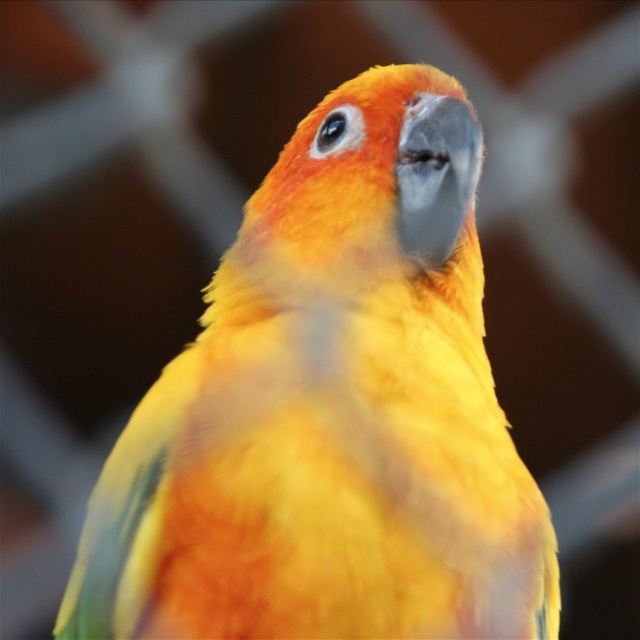Parrot: (51, 62, 562, 640)
